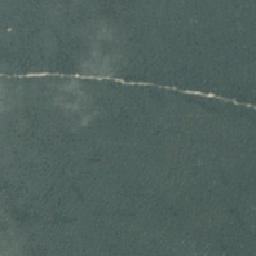debris: (1, 68, 162, 93), (164, 86, 256, 110)
